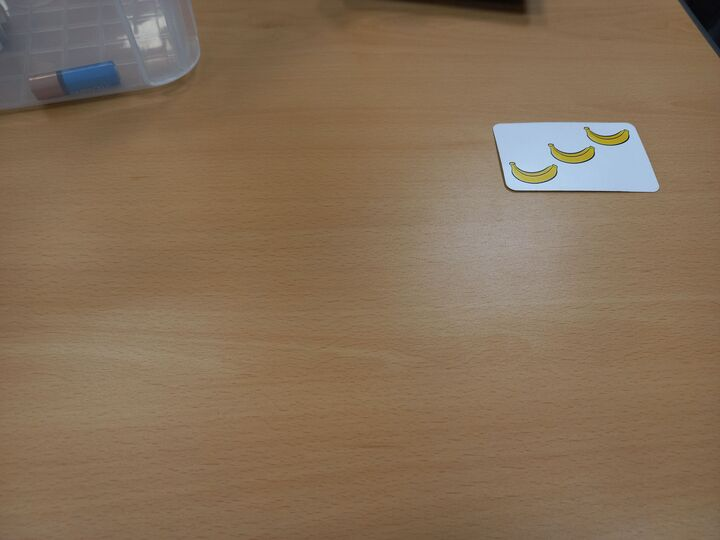banana3: (489, 120, 662, 196)
